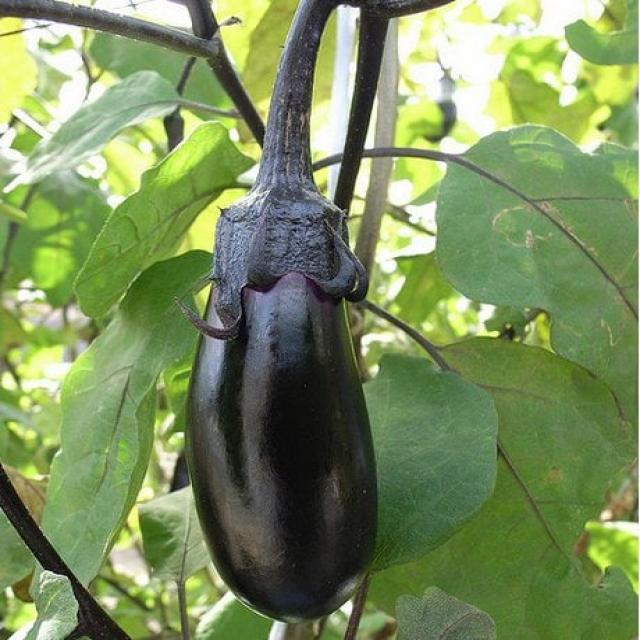Eggplant: (180, 180, 383, 626)
